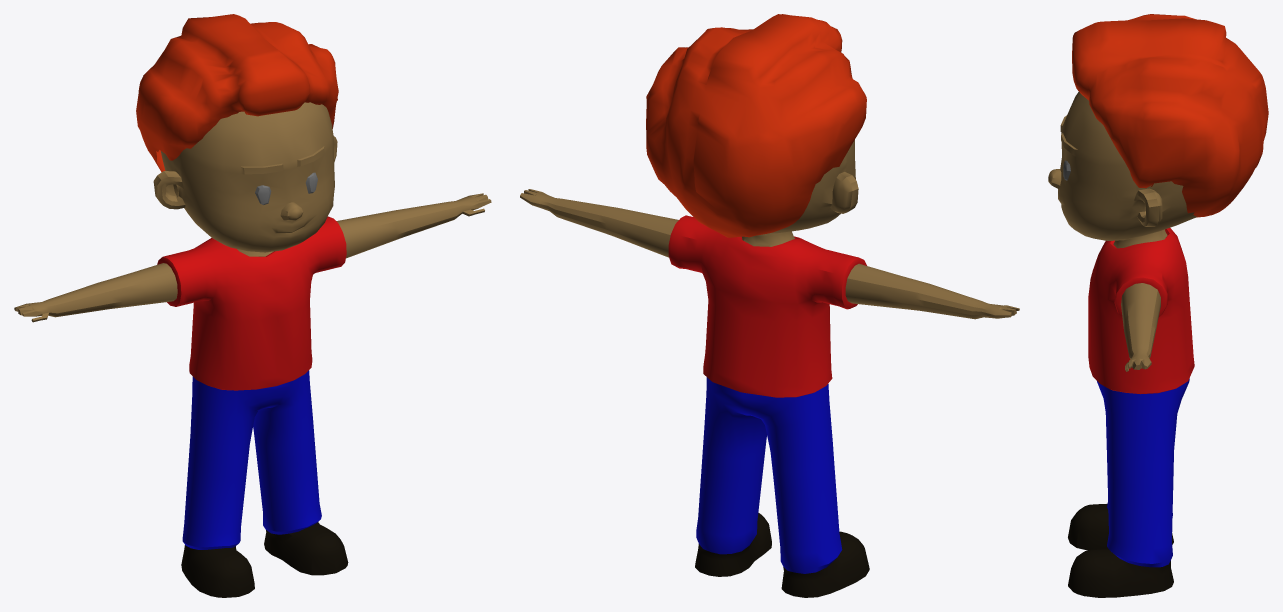
The model's file is charactertexturedenemezi.fbx.
The picture shows the model from 3 angles, left to right: view 1: azimuth 30°, elevation 25°; view 2: azimuth 150°, elevation 25°; view 3: azimuth 270°, elevation 25°; orthographic projection. The views are drawn at different scales.
Visible parts, largest first — view 1: body_low, tshirt_low, hair_low, pants_low, shoes_low; view 2: hair_low, tshirt_low, pants_low, body_low, shoes_low; view 3: hair_low, body_low, tshirt_low, pants_low, shoes_low.
Boxes of the visible parts, x1,y1,x2,y2 form: body_low: (14, 102, 491, 322); tshirt_low: (157, 216, 346, 390); hair_low: (136, 14, 338, 172); pants_low: (182, 370, 321, 549); shoes_low: (181, 522, 348, 597); hair_low: (646, 14, 866, 237); tshirt_low: (668, 215, 866, 397); pants_low: (696, 377, 842, 573); body_low: (520, 140, 1019, 319); shoes_low: (695, 512, 869, 597); hair_low: (1072, 14, 1268, 217); body_low: (1048, 91, 1197, 371); tshirt_low: (1088, 228, 1194, 394); pants_low: (1097, 378, 1189, 567); shoes_low: (1068, 503, 1173, 597).
Bounding box in the file's own units: 106 × 113 × 42.37.
